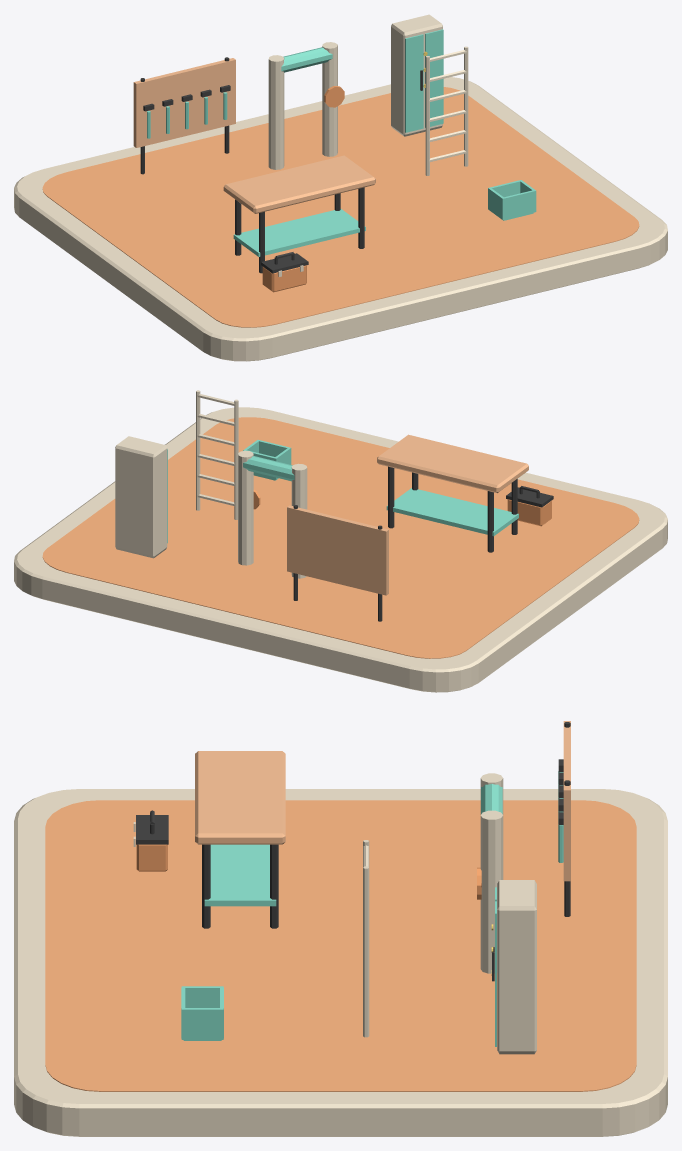
The picture shows the model from 3 angles, top to bottom: view 1: azimuth 30°, elevation 25°; view 2: azimuth 150°, elevation 25°; view 3: azimuth 270°, elevation 25°; orthographic projection. The views are drawn at different scales.
Parts seen in each view (by area): view 1: COM-02 Floor Surface, COM-01 Rounded Base Direct, Peg board, Worktop, Lower shelf, Equipment case, Pipe, Door, Pipe.001, Door.001, Box, Cross pipe (+4 smaller); view 2: COM-02 Floor Surface, COM-01 Rounded Base Direct, Peg board, Equipment case, Worktop, Lower shelf, Pipe.001, Cross pipe, Pipe, Box, Rail.001, Rail (+1 smaller); view 3: COM-02 Floor Surface, COM-01 Rounded Base Direct, Worktop, Equipment case, Lower shelf, Pipe.001, Bin side.001, Peg board, Rail.001, Lid, Box, Bin side (+2 smaller).
Part boxes in pixels (box(x1,y1,x2,y2)): COM-02 Floor Surface: box(42, 87, 639, 327); COM-01 Rounded Base Direct: box(14, 77, 667, 361); Peg board: box(133, 58, 235, 147); Worktop: box(223, 155, 375, 213); Lower shelf: box(233, 209, 365, 256); Equipment case: box(391, 14, 442, 136); Pipe: box(268, 55, 284, 169); Door: box(405, 34, 423, 132); Pipe.001: box(322, 42, 337, 156); Door.001: box(425, 29, 443, 127); Box: box(262, 265, 306, 292); Cross pipe: box(281, 47, 332, 72); COM-02 Floor Surface: box(42, 417, 639, 658); COM-01 Rounded Base Direct: box(14, 407, 667, 692); Peg board: box(287, 505, 388, 595); Equipment case: box(115, 436, 167, 558); Worktop: box(377, 434, 528, 493); Lower shelf: box(386, 488, 518, 536); Pipe.001: box(238, 450, 253, 565); Cross pipe: box(243, 456, 294, 481); Pipe: box(291, 463, 307, 578); Box: box(507, 499, 551, 526); Rail.001: box(196, 390, 200, 510); Rail: box(234, 399, 238, 519); COM-02 Floor Surface: box(45, 800, 636, 1091); COM-01 Rounded Base Direct: box(14, 789, 667, 1136); Worktop: box(195, 751, 285, 844); Equipment case: box(497, 880, 536, 1054); Lower shelf: box(204, 844, 276, 906); Pipe.001: box(480, 810, 503, 973); Bin side.001: box(181, 1008, 223, 1039); Peg board: box(563, 721, 570, 881); Rail.001: box(363, 866, 369, 1037); Lid: box(136, 815, 168, 844); Box: box(136, 844, 167, 871); Bin side: box(181, 986, 223, 1007).
Size of the model in its own units: 6 by 1.8 by 5.2.
Materials: 1 (1 with a texture image).
